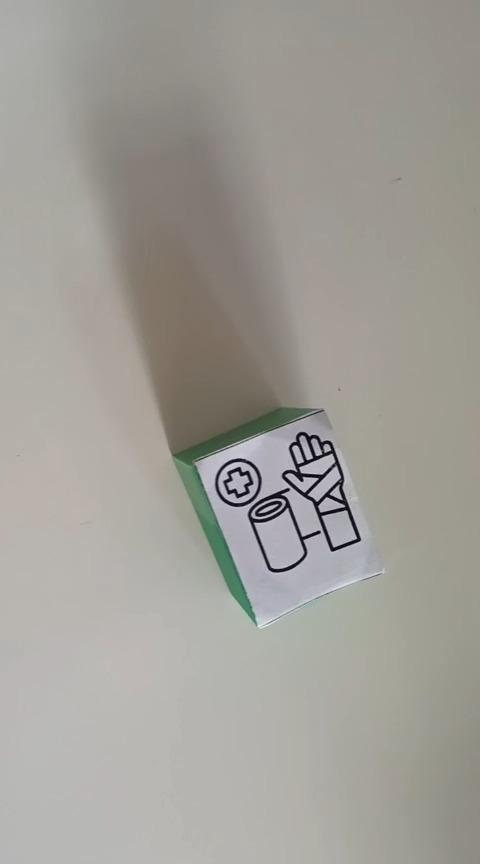Bandages: (171, 404, 385, 629)
